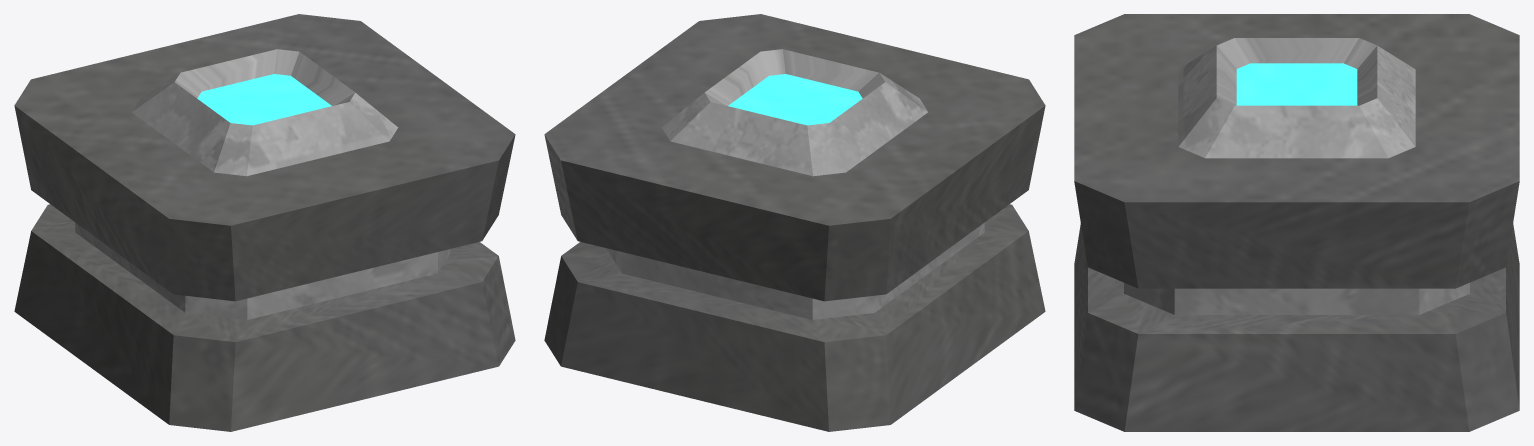
Rendered from lootbox.fbx.
3 renders of one model, left to right at view 1: azimuth 30°, elevation 25°; view 2: azimuth 150°, elevation 25°; view 3: azimuth 270°, elevation 25°, orthographic. The views are drawn at different scales.
Parts seen in each view (by area): view 1: Cube; view 2: Cube; view 3: Cube.
Boxes of the visible parts, x1,y1,x2,y2 form: Cube: (14, 14, 515, 431); Cube: (544, 14, 1045, 431); Cube: (1074, 14, 1519, 431).
Bounding box in the file's own units: 101 × 66.79 × 101.
